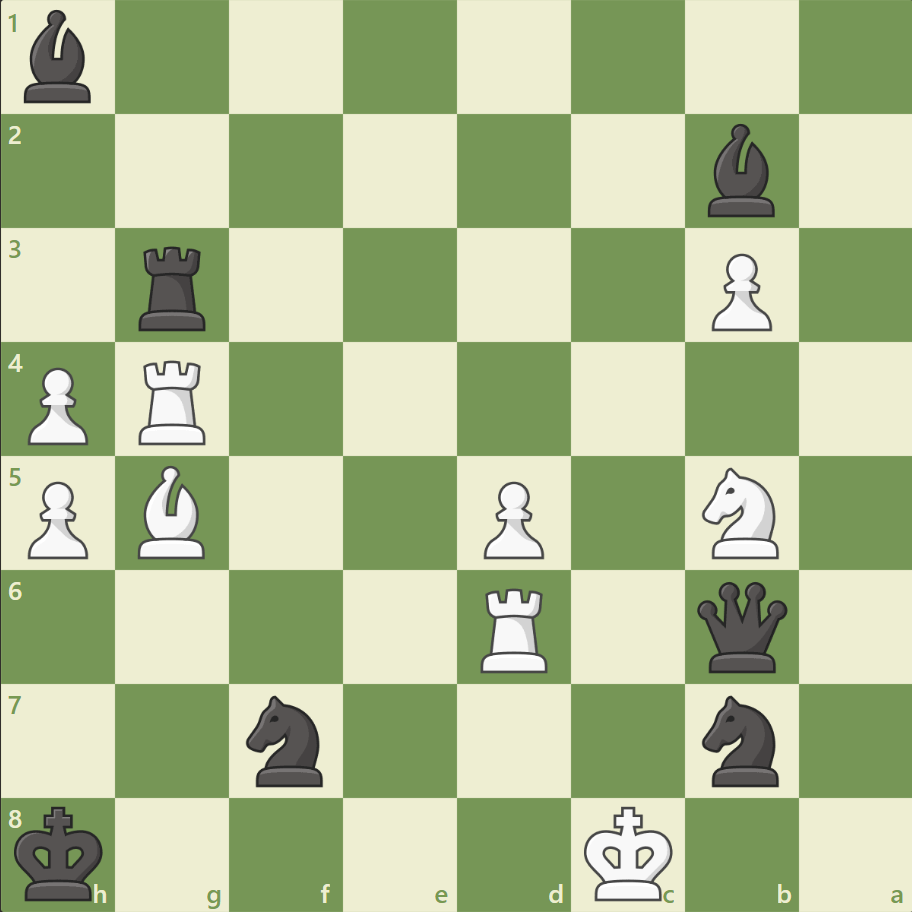B: (131, 460, 215, 563)
K: (579, 798, 679, 906)
N: (692, 461, 789, 564)
P: (474, 473, 549, 564), (20, 473, 95, 564), (20, 359, 95, 450), (701, 246, 776, 337)
R: (473, 579, 556, 676), (133, 352, 215, 449)
b: (17, 6, 101, 109), (698, 120, 782, 222)
k: (11, 798, 111, 906)
n: (692, 688, 789, 791), (238, 688, 335, 791)
q: (691, 576, 790, 676)
r: (133, 239, 215, 336)
